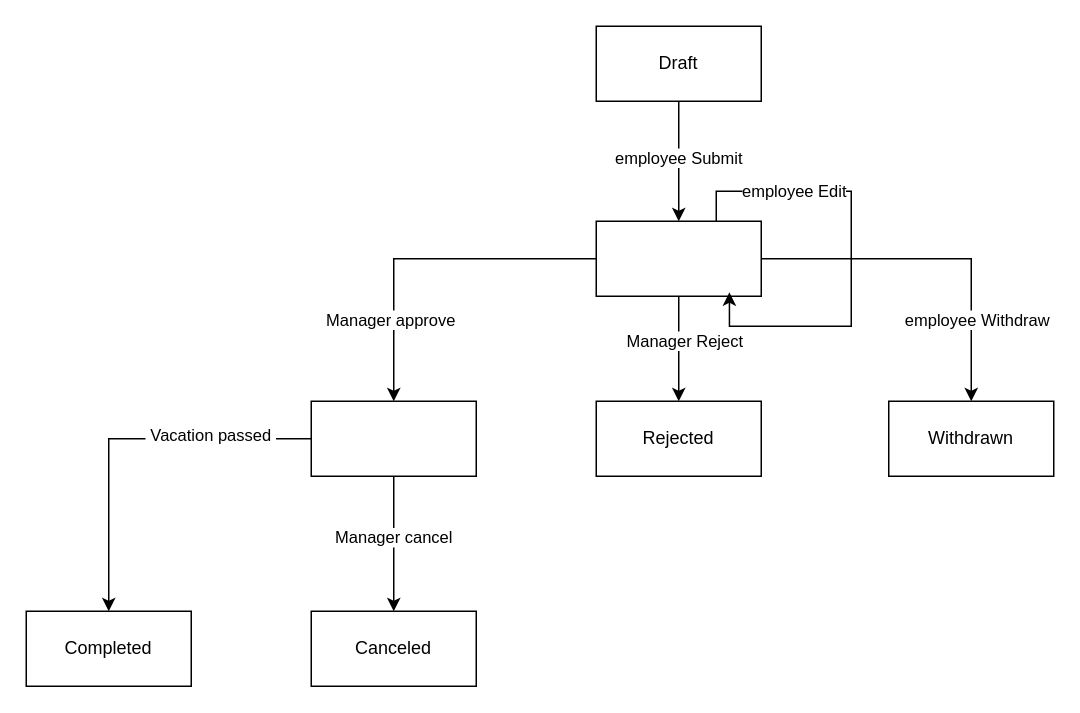
This 1080x713 diagram has some shape labels left out. Here are the shapes that lost their labels. From the top down, the centre of each, then its label:
At pixel 678 258: "Pending".
At pixel 393 438: "Approved".
